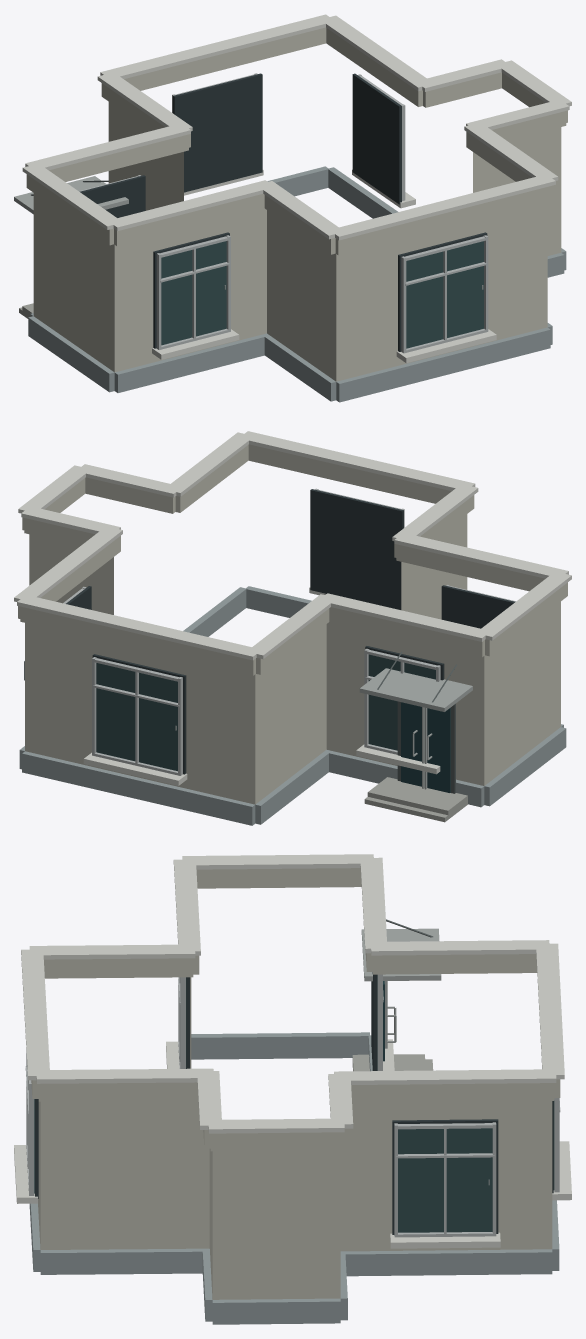
File: osm_way_224938894.glb
3 views of the same model, one above another, from view 1: azimuth 30°, elevation 25°; view 2: azimuth 150°, elevation 25°; view 3: azimuth 270°, elevation 25° (orthographic). The views are drawn at different scales.
Parts seen in each view (by area): view 1: Architecture | 门卫, Windows and facade details | 门卫, Roof services | 门卫, EXTERIOR::osm_way_224938894::inferred entry doors canopy and; view 2: Architecture | 门卫, Windows and facade details | 门卫, Roof services | 门卫, EXTERIOR::osm_way_224938894::inferred entry doors canopy and; view 3: Architecture | 门卫, Roof services | 门卫, Windows and facade details | 门卫, EXTERIOR::osm_way_224938894::inferred entry doors canopy and.
Boxes of the visible parts, box(x1,y1,x2,y2) form: Architecture | 门卫: box(26, 27, 567, 402); Windows and facade details | 门卫: box(79, 73, 496, 363); Roof services | 门卫: box(22, 14, 571, 240); EXTERIOR::osm_way_224938894::inferred entry doors canopy and: box(14, 176, 128, 318); Architecture | 门卫: box(18, 444, 567, 825); Windows and facade details | 门卫: box(63, 488, 515, 785); Roof services | 门卫: box(14, 431, 571, 660); EXTERIOR::osm_way_224938894::inferred entry doors canopy and: box(359, 651, 472, 822); Architecture | 门卫: box(29, 868, 560, 1324); Roof services | 门卫: box(21, 854, 564, 1133); Windows and facade details | 门卫: box(14, 972, 571, 1248); EXTERIOR::osm_way_224938894::inferred entry doors canopy and: box(352, 919, 441, 1071).
Size of the model in its own units: 13.51 by 4.54 by 11.59.
